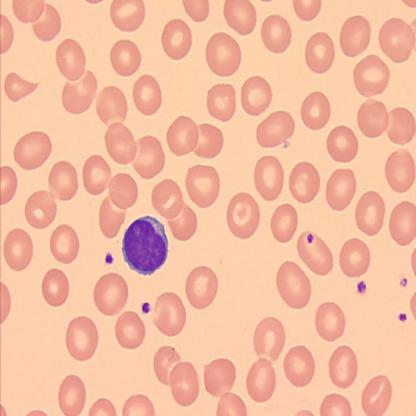Lymphocyte: (121, 214, 169, 277)
